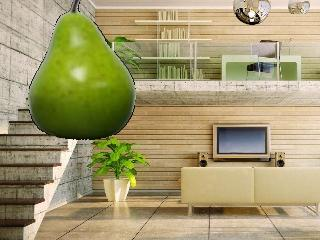pear: (27, 0, 135, 140)
